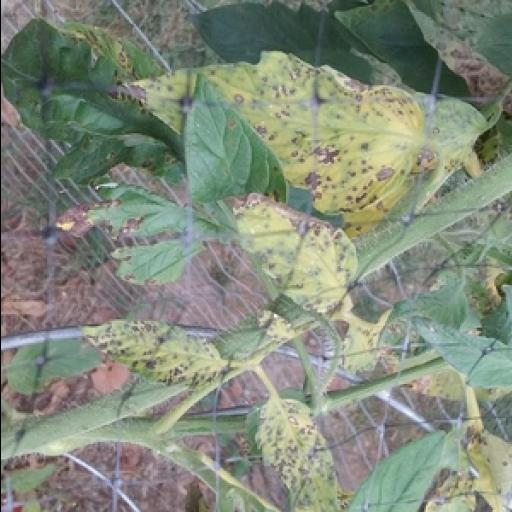Septoria: (118, 51, 428, 220), (220, 191, 364, 314), (176, 72, 288, 202), (68, 310, 224, 398), (249, 397, 349, 512)
